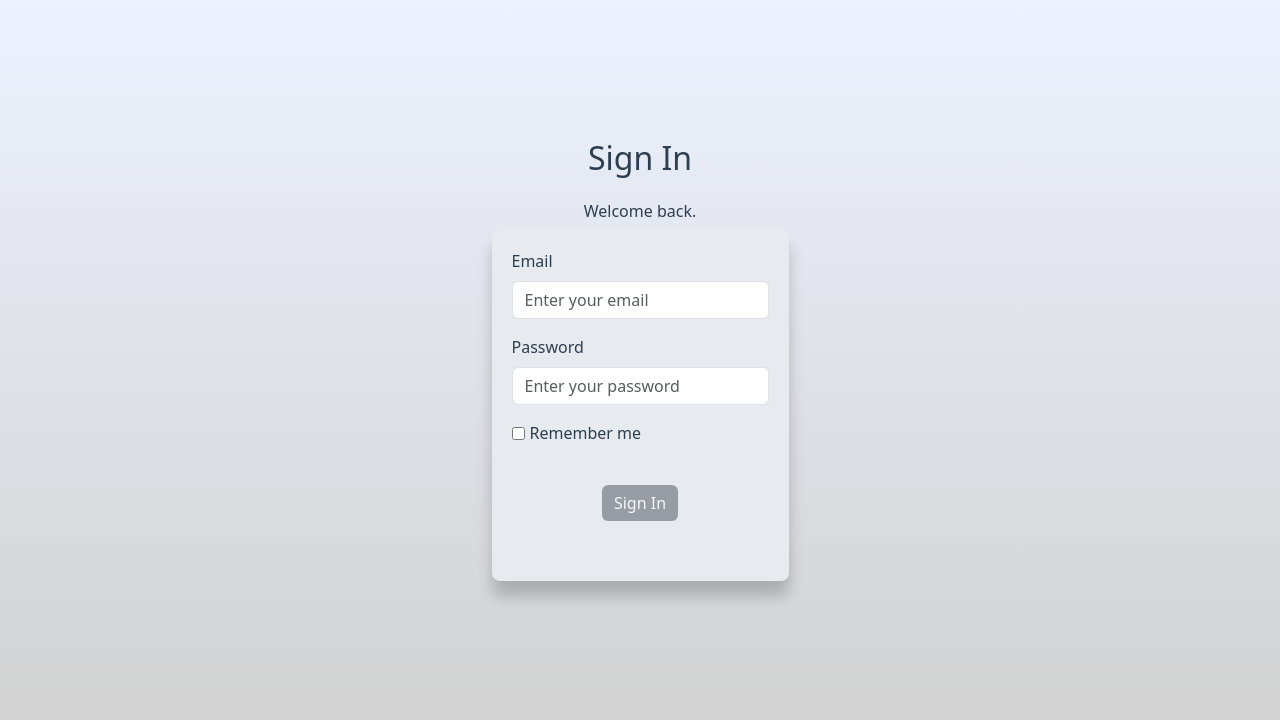
Scenario: Login Page Test › Form Validation › Should show an error for weak password
In the field with test id "input-email": (641, 300) top-left (512, 281), bottom-right (769, 319), type "wrong@example.com"
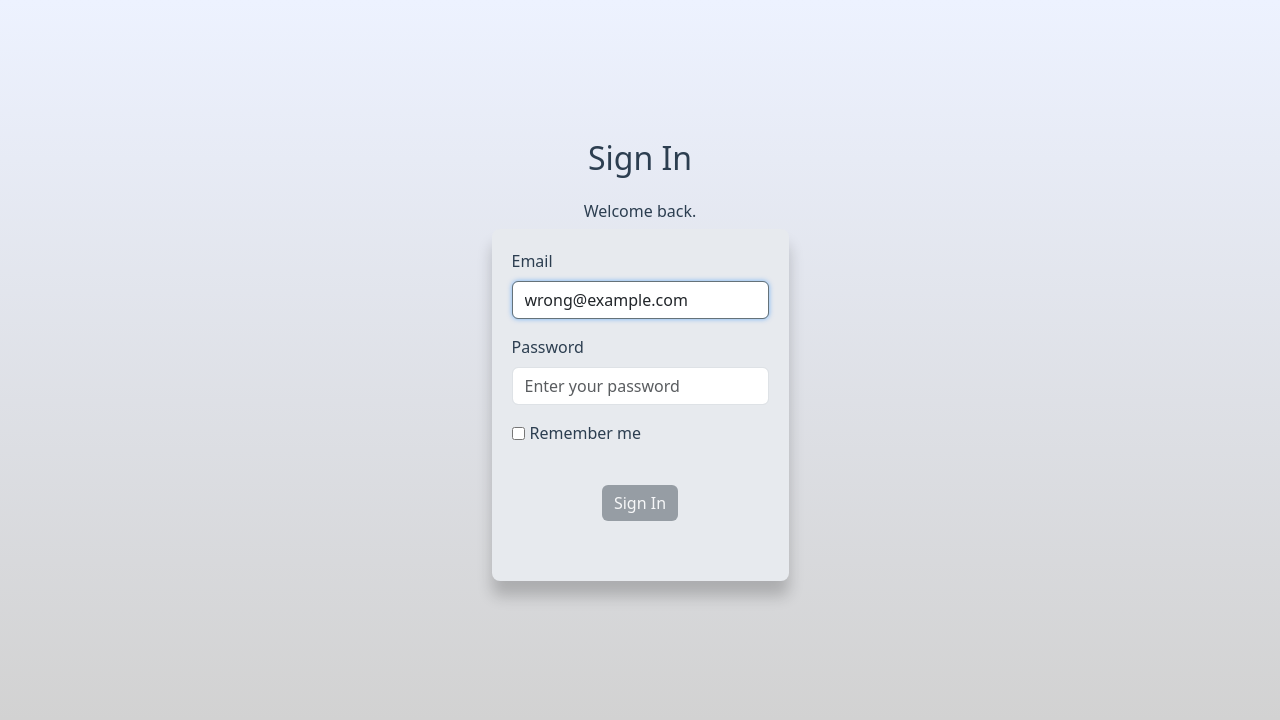
In the password field with test id "input-password": (641, 386) top-left (512, 367), bottom-right (769, 405), type "wrongpass"
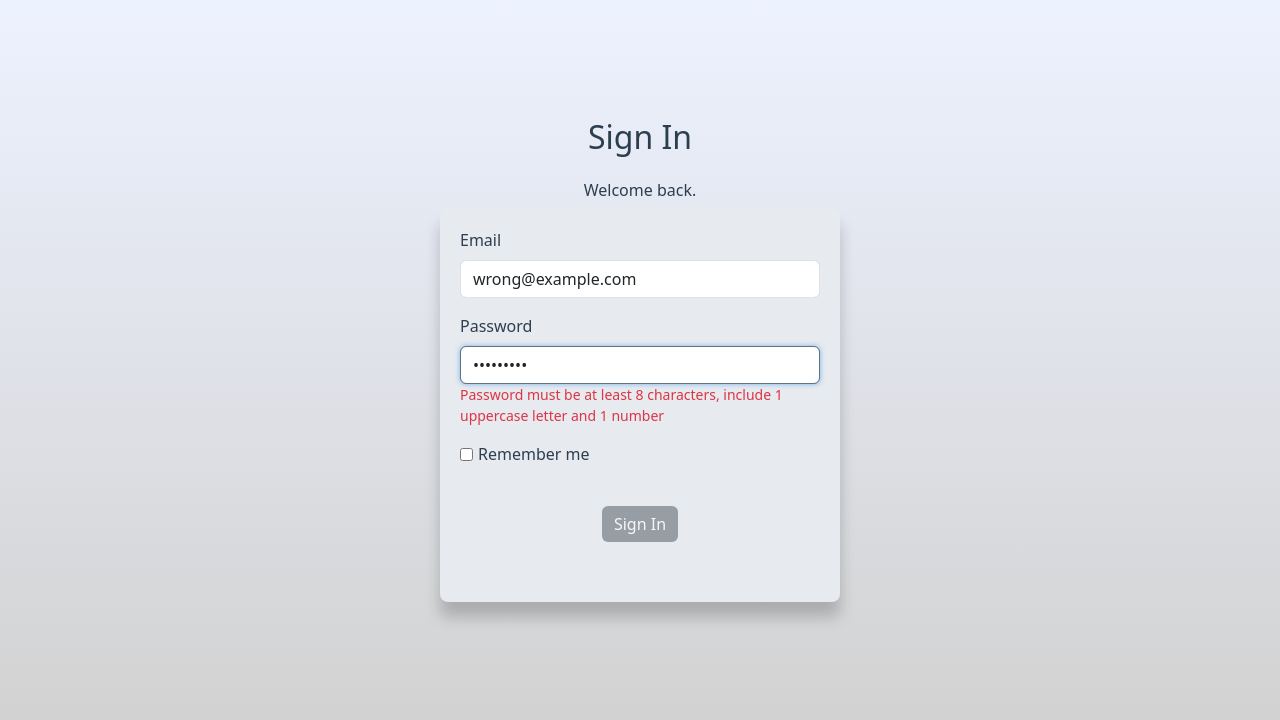
Expected: the button with test id "submit-button" is disabled, top-left (602, 506), bottom-right (678, 542)
Now the text with test id "password-error" is shown, box top-left (460, 384), bottom-right (820, 426)
Now the text with test id "password-error" reads "Password must be at least 8 characters, include 1 uppercase letter and 1 number", box top-left (460, 385), bottom-right (783, 425)
